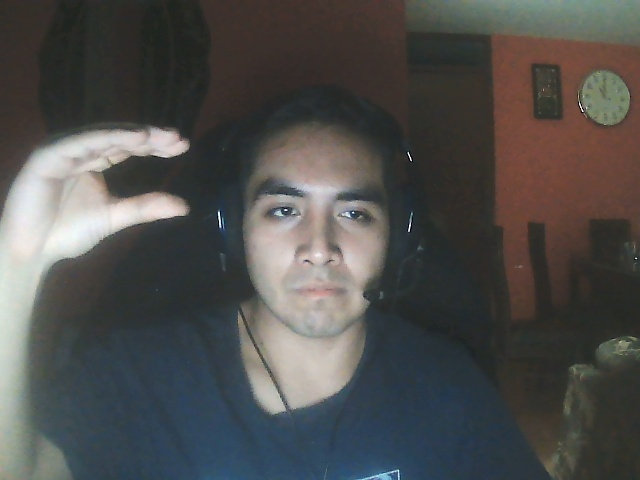no: (4, 116, 204, 263)
